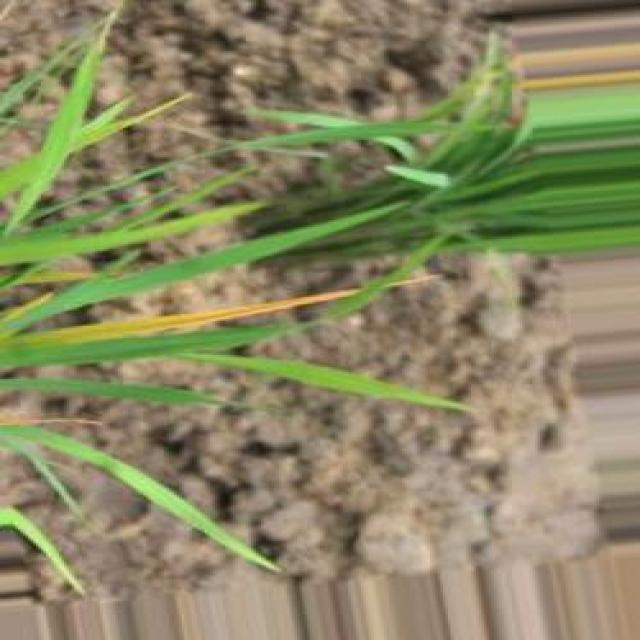Rice Tungro: (22, 289, 358, 343)
